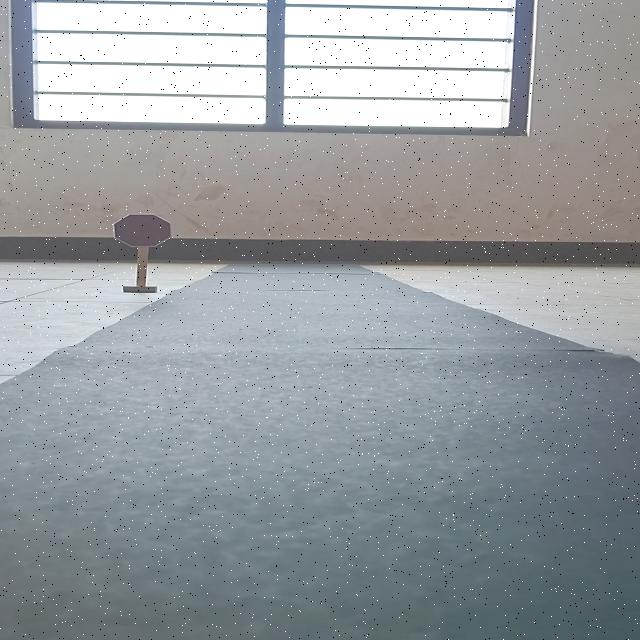Stop: (114, 214, 172, 248)
